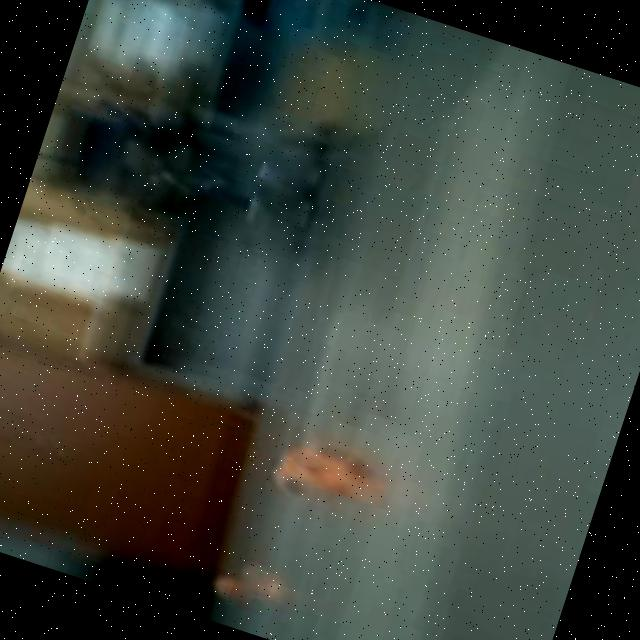ping-pong-ball: (264, 416, 388, 528), (202, 562, 248, 608)
